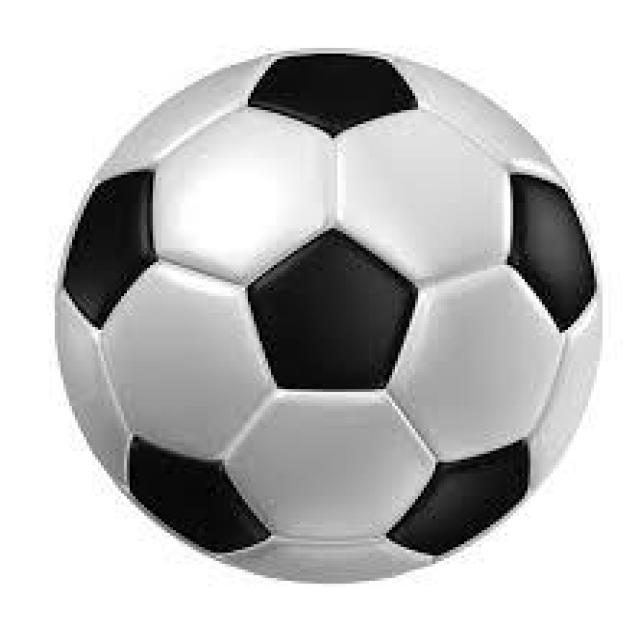Soccer Ball: (52, 53, 600, 580)
